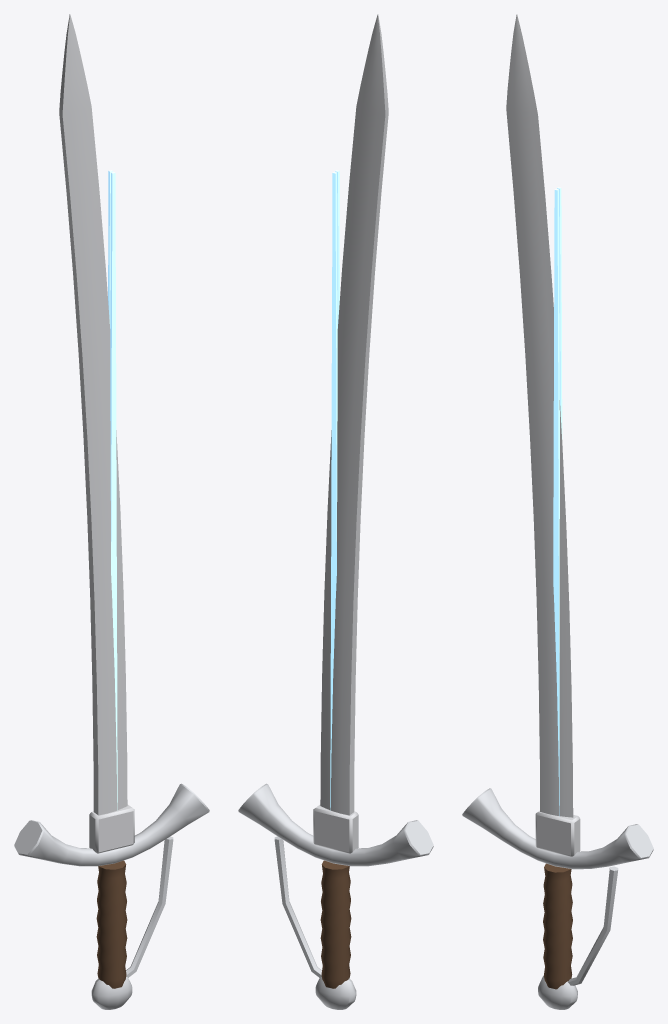
The model's file is depth_crownless_longsword.glb.
3 renders of one model, left to right at view 1: azimuth 30°, elevation 25°; view 2: azimuth 150°, elevation 25°; view 3: azimuth 330°, elevation 25°, orthographic. The views are drawn at different scales.
Visible parts, largest first — view 1: depth_crownless_longsword; view 2: depth_crownless_longsword; view 3: depth_crownless_longsword.
Boxes of the visible parts, x1,y1,x2,y2 form: depth_crownless_longsword: [14, 14, 209, 1009]; depth_crownless_longsword: [238, 14, 433, 1009]; depth_crownless_longsword: [462, 14, 653, 1009].
Bounding box in the file's own units: 0.2609 × 1.34 × 0.0431.
